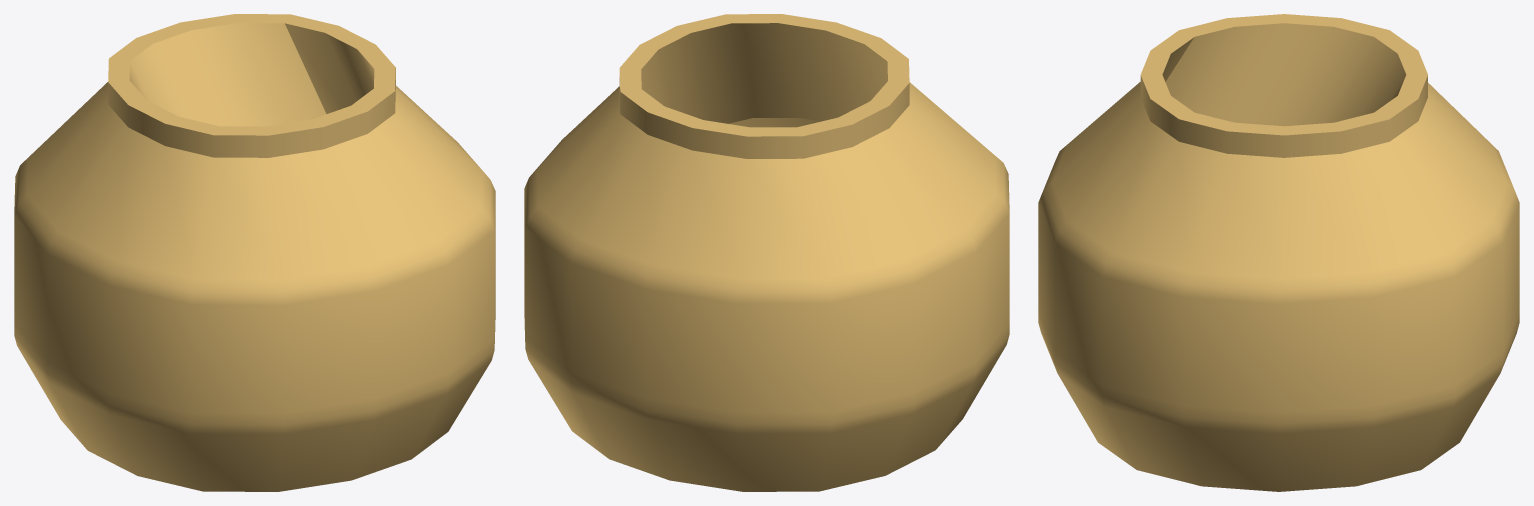
Rendered from vase_1.fbx.
The picture shows the model from 3 angles, left to right: view 1: azimuth 30°, elevation 25°; view 2: azimuth 150°, elevation 25°; view 3: azimuth 270°, elevation 25°; orthographic projection.
Visible parts, largest first — view 1: Cube.001; view 2: Cube.001; view 3: Cube.001.
Part boxes in pixels (bbox=[...]): Cube.001: bbox=[14, 14, 495, 491]; Cube.001: bbox=[524, 14, 1009, 491]; Cube.001: bbox=[1038, 14, 1519, 491].
Bounding box in the file's own units: 12.39 × 9.52 × 12.39.
